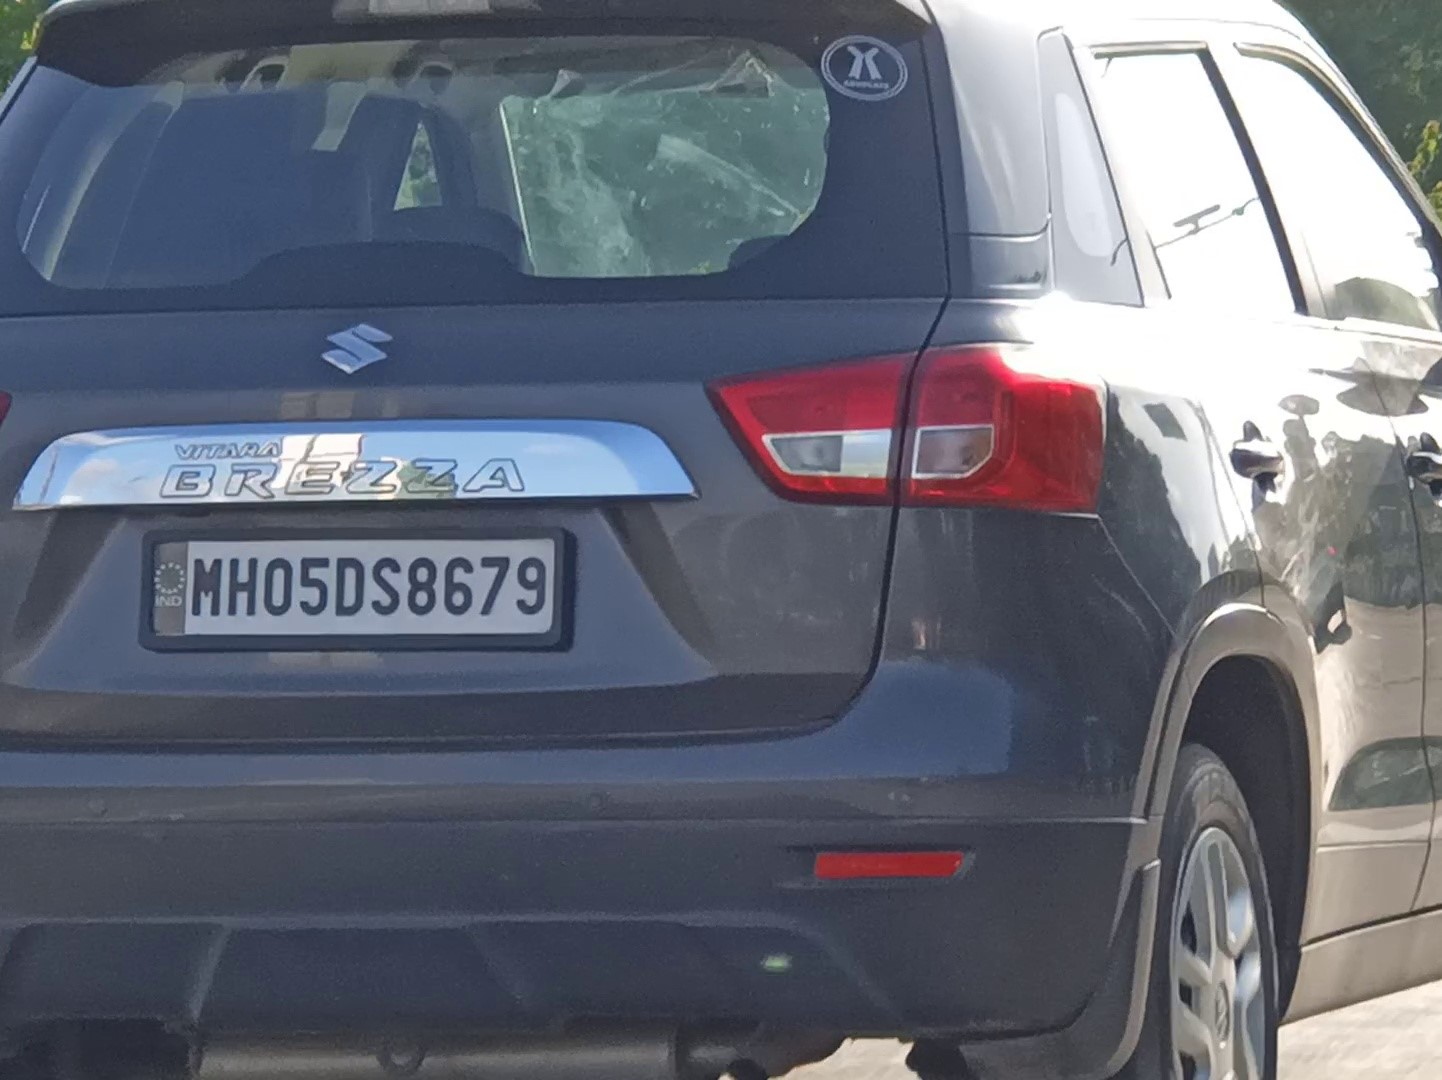MH05DS8679: (146, 534, 558, 639)
